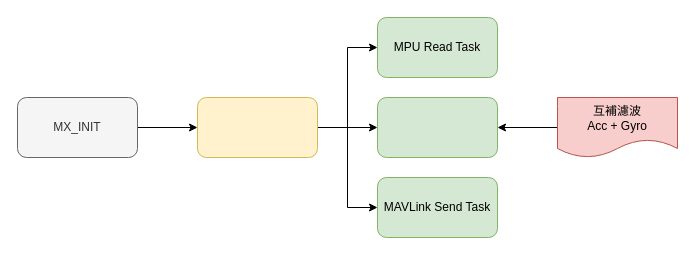
This 695x255 diagram has some shape labels left out. Each missing label, with the box of its shape:
MPU6050_INIT: (196, 96, 318, 158)
Ola Angle Calculate (Roll Yaw Pitch): (376, 96, 498, 158)
